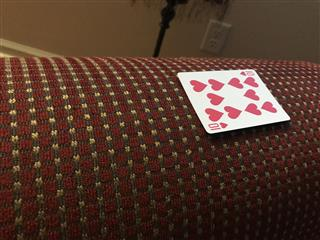TenOfHearts: (176, 67, 291, 135)
